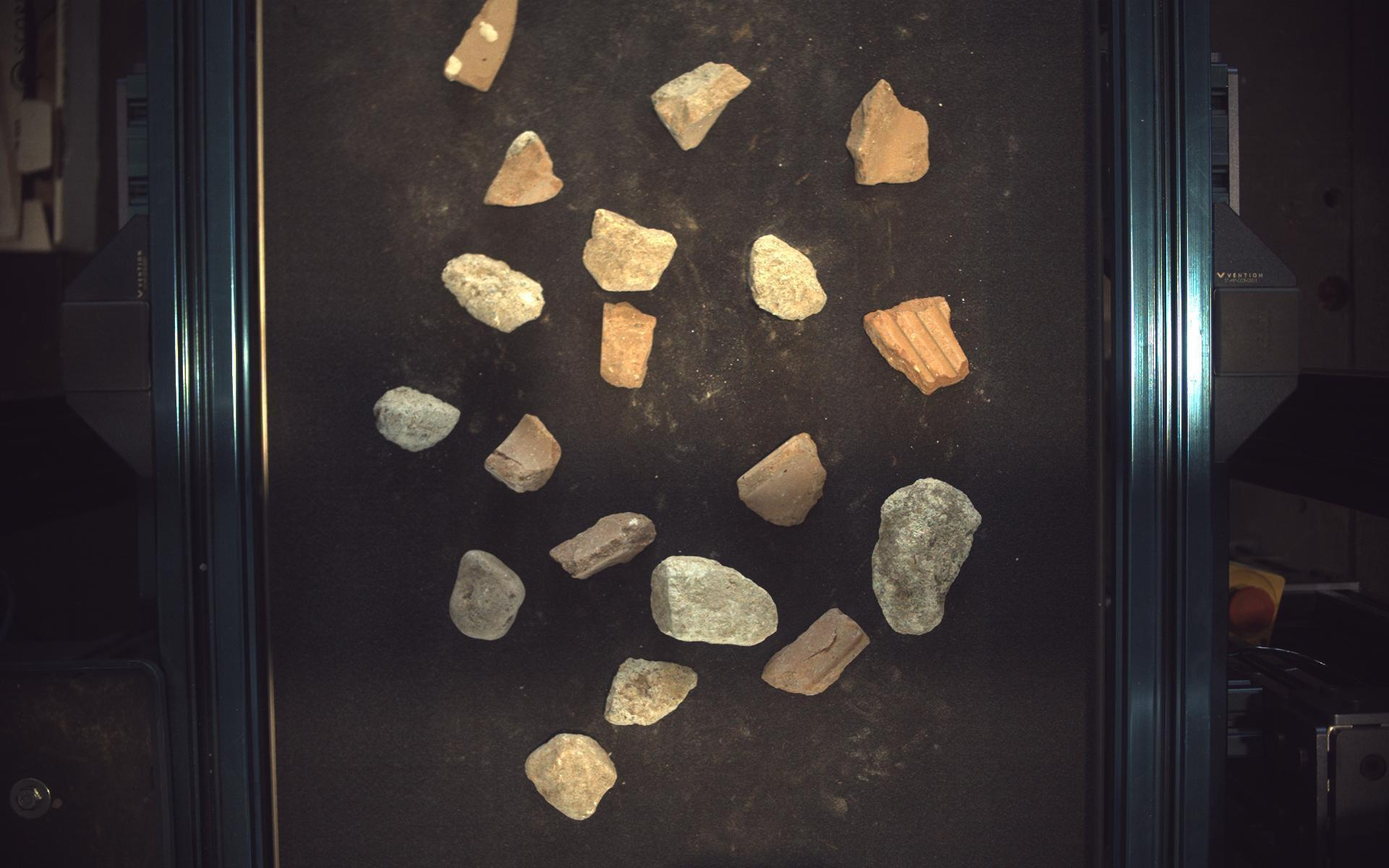brick: (865, 296, 971, 394), (763, 610, 871, 697), (847, 78, 931, 184), (653, 61, 752, 149), (739, 433, 828, 527), (551, 513, 657, 579), (443, 1, 518, 90), (485, 414, 562, 493), (485, 129, 564, 205), (601, 302, 657, 388)
concrete: (873, 478, 984, 636), (652, 557, 779, 647), (442, 253, 545, 332), (583, 208, 678, 292), (525, 736, 617, 822), (450, 551, 525, 641), (750, 235, 828, 320), (606, 660, 699, 726), (373, 386, 460, 452)
